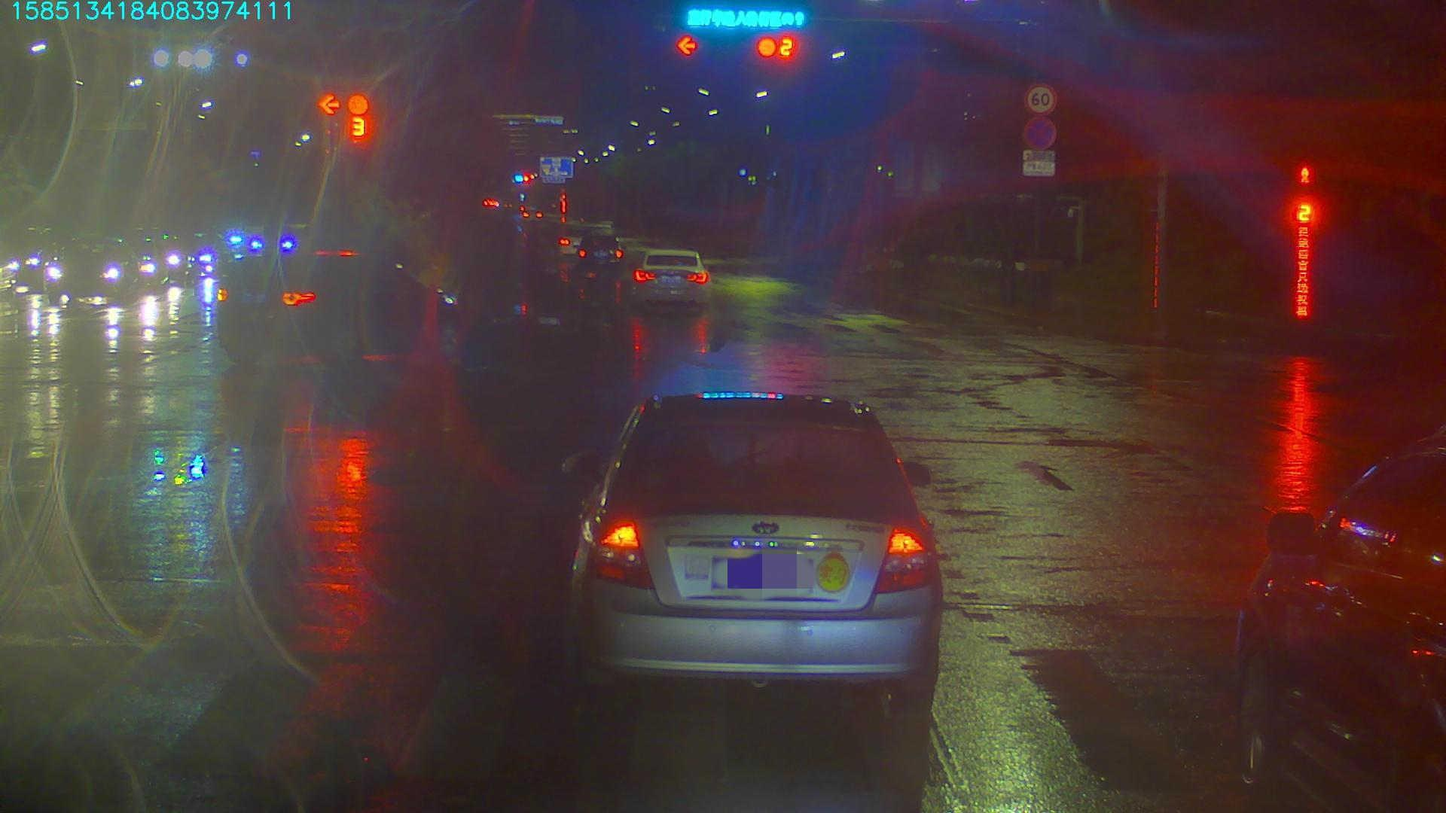red: (753, 34, 804, 65), (677, 33, 704, 50)
wait_on: (678, 11, 815, 32)
